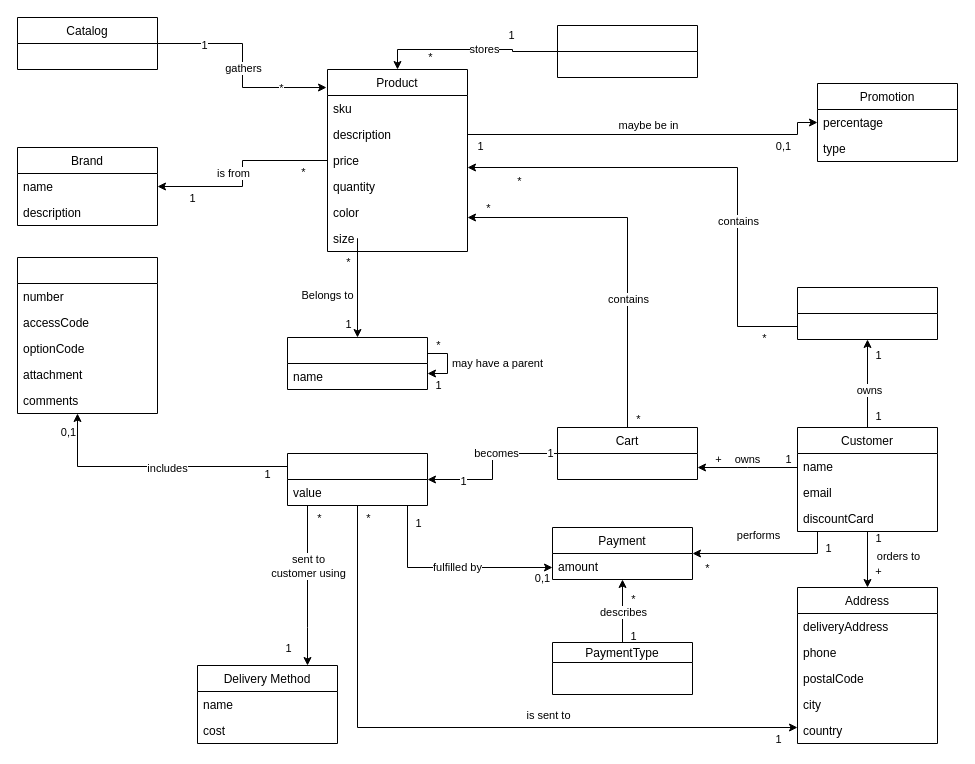
Some shapes in this 975 by 764 pixel diagram are drawn without their labels. Here are the shapes that lost their labels. From the top down, the box of each, then its label:
(556, 24, 698, 78): Inventory
(796, 286, 938, 340): Wishlist
(16, 256, 158, 414): Prescription
(286, 336, 428, 390): Category
(286, 452, 428, 506): Order
